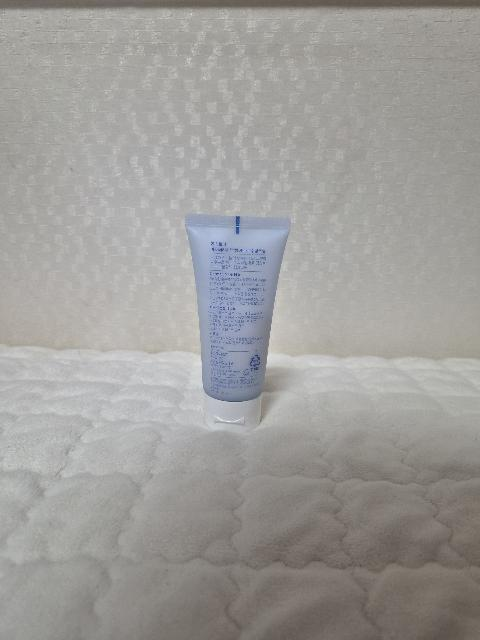handcream: (185, 214, 291, 434)
